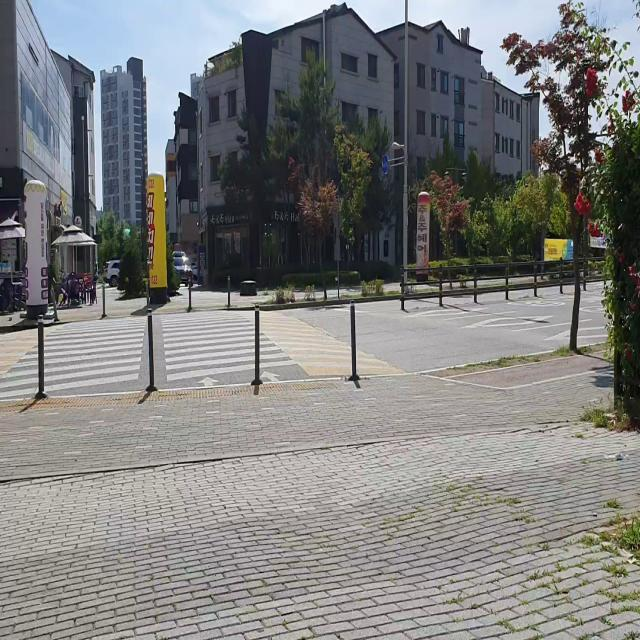횡단보도: (0, 308, 299, 401)
